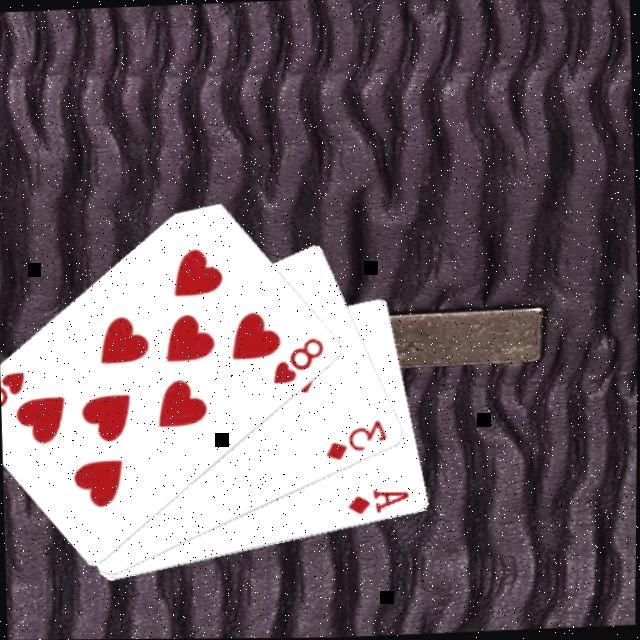3D: (320, 418, 390, 465)
8H: (267, 335, 327, 389), (0, 368, 28, 421)
AD: (343, 486, 412, 519)
